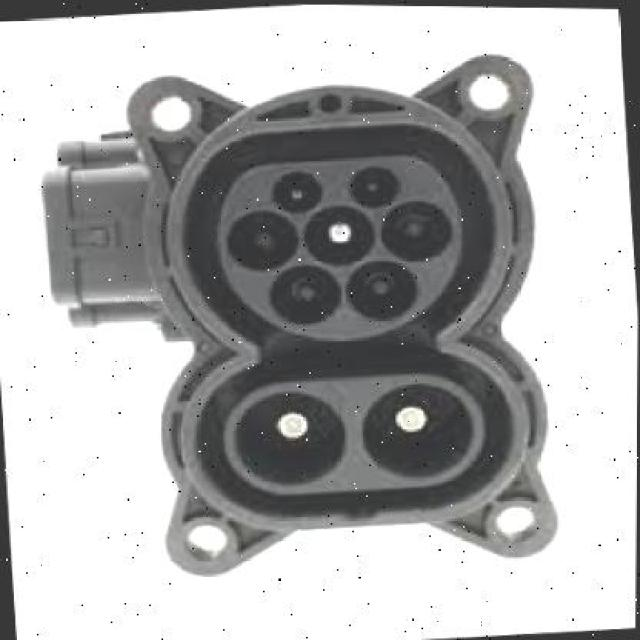CCS2: (181, 97, 527, 529)
